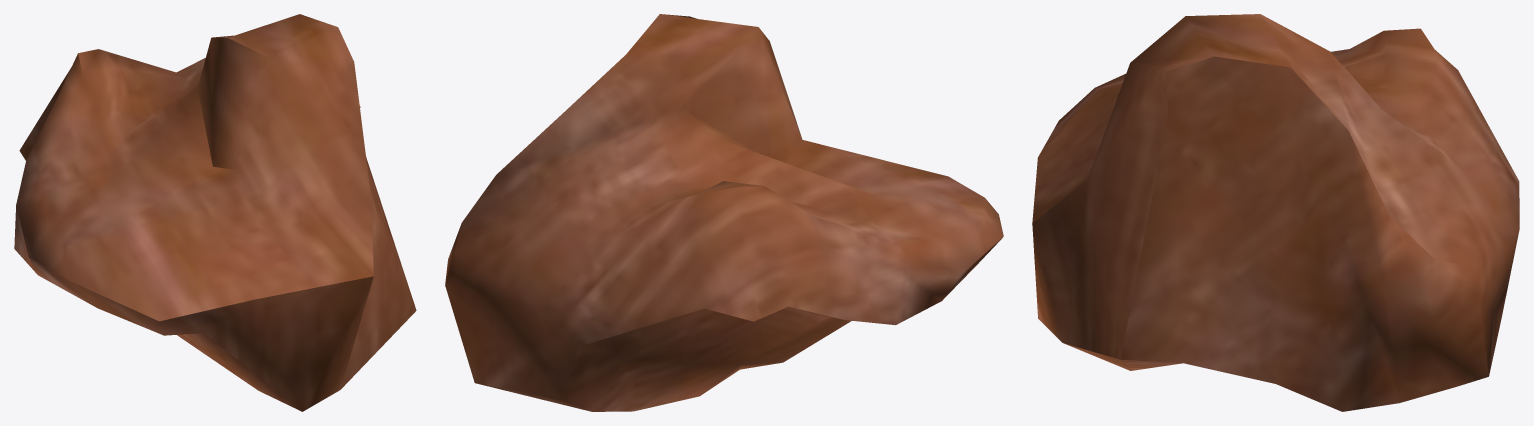
File: Canyon_Rock_Formations_10.glb
3 views of the same model, side by side, from view 1: azimuth 30°, elevation 25°; view 2: azimuth 150°, elevation 25°; view 3: azimuth 270°, elevation 25° (orthographic). The views are drawn at different scales.
Visible parts, largest first — view 1: Canyon_Rock_Formations_10_0; view 2: Canyon_Rock_Formations_10_0; view 3: Canyon_Rock_Formations_10_0.
Boxes of the visible parts, bbox=[...] form: Canyon_Rock_Formations_10_0: bbox=[14, 14, 416, 411]; Canyon_Rock_Formations_10_0: bbox=[445, 14, 1003, 411]; Canyon_Rock_Formations_10_0: bbox=[1032, 14, 1519, 411].
Bounding box in the file's own units: 8.5 × 6.6 × 8.24.
1 material, 1 textured.
